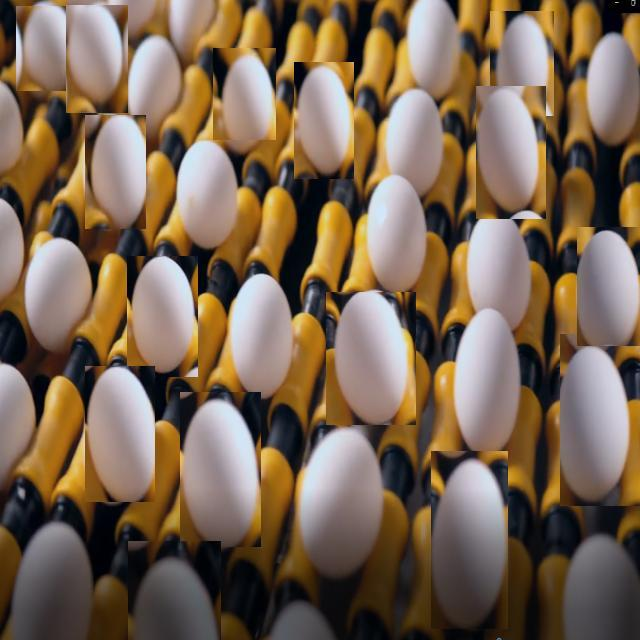Egg: (302, 416, 388, 578), (560, 334, 640, 506), (431, 451, 508, 629), (180, 392, 261, 547), (326, 292, 416, 425), (454, 307, 528, 468), (8, 520, 98, 640), (462, 202, 532, 350), (85, 366, 155, 502), (476, 86, 546, 219), (227, 275, 300, 402), (128, 541, 221, 640), (24, 233, 97, 351), (127, 256, 198, 377), (560, 533, 640, 640), (367, 175, 430, 302), (384, 83, 457, 187), (577, 227, 640, 346), (178, 138, 240, 254), (294, 62, 354, 179), (85, 115, 146, 229), (490, 11, 554, 116), (584, 26, 640, 146), (66, 5, 128, 113), (404, 2, 467, 99), (213, 48, 276, 140), (0, 356, 36, 509), (16, 6, 78, 91), (132, 35, 186, 126)
